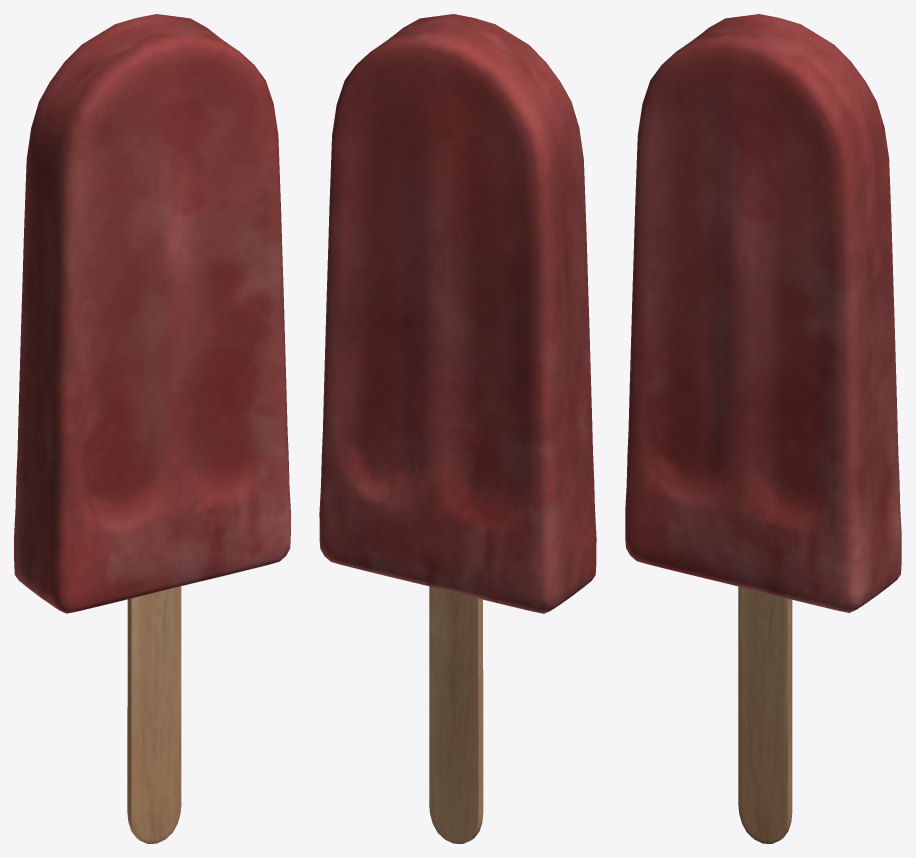
Rendered from item-popsicle.glb.
3 views of the same model, side by side, from view 1: azimuth 30°, elevation 25°; view 2: azimuth 150°, elevation 25°; view 3: azimuth 330°, elevation 25° (orthographic).
Size of the model in its own units: 0.0595 by 0.1975 by 0.0229.
2 materials, 2 textured.
